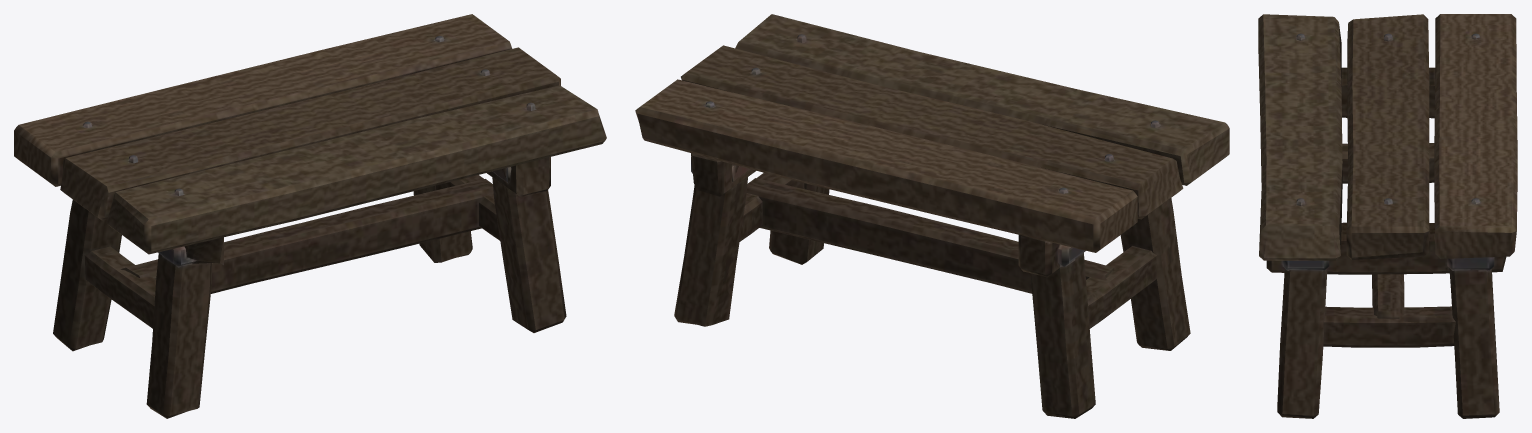
The model's file is bench.glb.
3 renders of one model, left to right at view 1: azimuth 30°, elevation 25°; view 2: azimuth 150°, elevation 25°; view 3: azimuth 270°, elevation 25°, orthographic. The views are drawn at different scales.
Parts seen in each view (by area): view 1: bench; view 2: bench; view 3: bench.
Part boxes in pixels (x1,y1,x2,y2): bench: (14,14,606,418); bench: (635,14,1229,418); bench: (1258,14,1517,418).
Size of the model in its own units: 0.8212 by 0.377 by 0.4154.
1 material, 1 textured.
